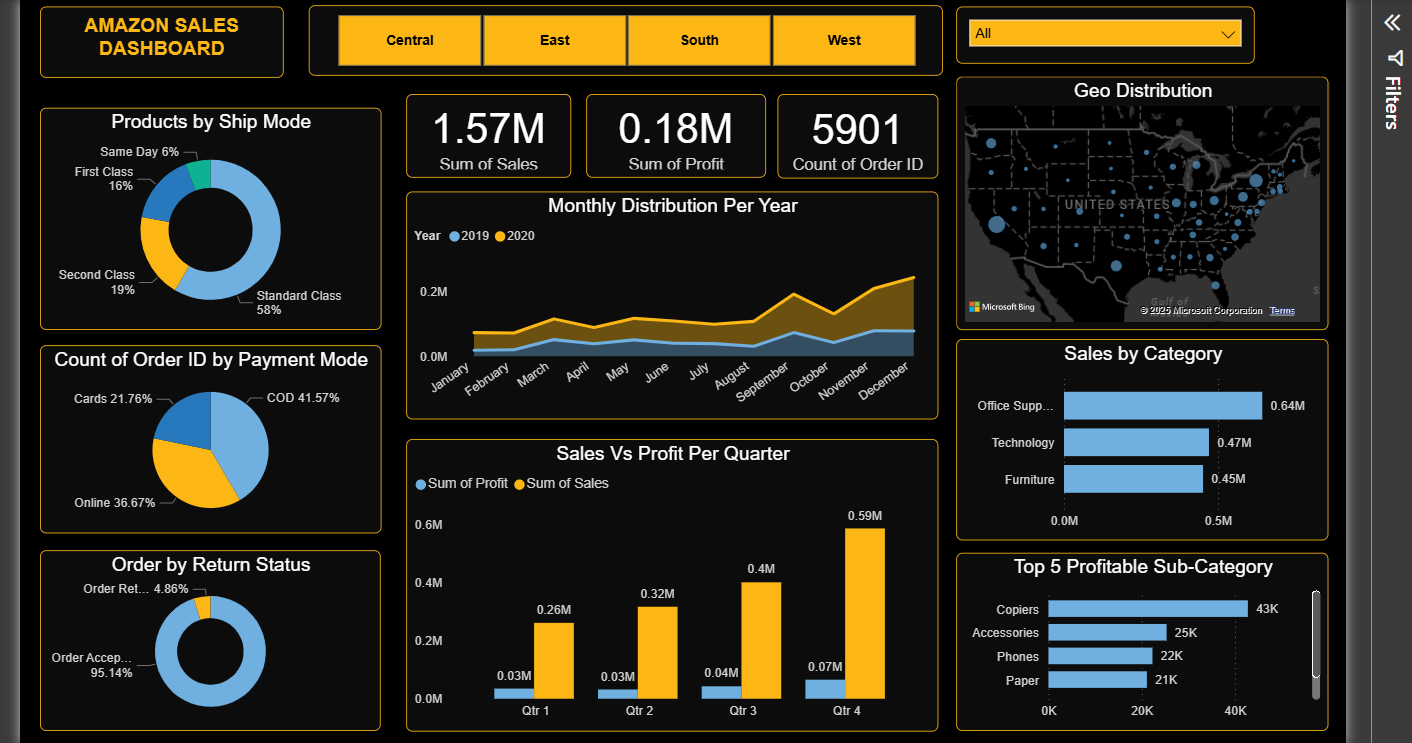

Layout of this report page (visuals, bound fields, positions):
{"tool":"powerbi","page":{"name":"Page 1","canvas":[1280,720],"ordinal":0},"visuals":[{"type":"clusteredBarChart","title":"Sales by Category","fields":{"Category":["Amazon Store Sales Data xlsx - Sheet1 (1).Category"],"Y":["Sum(Amazon Store Sales Data xlsx - Sheet1 (1).Sales)"]},"box":[903.5,327.7,359.5,194.1],"z":0},{"type":"clusteredBarChart","title":"Top 5 Profitable Sub-Category","fields":{"Category":["Amazon Store Sales Data xlsx - Sheet1 (1).Sub-Category"],"Y":["Sum(Amazon Store Sales Data xlsx - Sheet1 (1).Profit)"]},"box":[903.5,534.4,359.5,171.8],"z":1000},{"type":"donutChart","title":"Products by Ship Mode","fields":{"Category":["Amazon Store Sales Data xlsx - Sheet1 (1).Ship Mode"],"Y":["CountNonNull(Amazon Store Sales Data xlsx - Sheet1 (1).Product ID)"]},"box":[19.1,105,329.3,214.7],"z":2000},{"type":"pieChart","fields":{"Category":["Amazon Store Sales Data xlsx - Sheet1 (1).Payment Mode"],"Y":["CountNonNull(Amazon Store Sales Data xlsx - Sheet1 (1).Order ID)"]},"box":[19.1,334,329.3,181.3],"z":3000},{"type":"donutChart","title":"Order by Return Status","fields":{"Category":["Amazon Store Sales Data xlsx - Sheet1 (1).Return Status"],"Y":["CountNonNull(Amazon Store Sales Data xlsx - Sheet1 (1).Order ID)"]},"box":[18.9,532.2,328.9,174.4],"z":4000},{"type":"stackedAreaChart","title":"Monthly Distribution Per Year","fields":{"Category":["Amazon Store Sales Data xlsx - Sheet1 (1).Order Date.Variation.Date Hierarchy.Month"],"Y":["Sum(Amazon Store Sales Data xlsx - Sheet1 (1).Sales)"],"Series":["Amazon Store Sales Data xlsx - Sheet1 (1).Order Date.Variation.Date Hierarchy.Year"]},"box":[373.3,185.6,513.3,220],"z":5000},{"type":"clusteredColumnChart","title":"Sales Vs Profit Per Quarter","fields":{"Category":["Amazon Store Sales Data xlsx - Sheet1 (1).Order Date.Variation.Date Hierarchy.Quarter"],"Y":["Sum(Amazon Store Sales Data xlsx - Sheet1 (1).Profit)","Sum(Amazon Store Sales Data xlsx - Sheet1 (1).Sales)"]},"box":[373.3,424.4,513.3,282.2],"z":6000},{"type":"map","title":"Geo Distribution","fields":{"Category":["Amazon Store Sales Data xlsx - Sheet1 (1).State"],"Size":["Sum(Amazon Store Sales Data xlsx - Sheet1 (1).Sales)"]},"box":[903.5,74.8,359.5,245],"z":7000},{"type":"slicer","fields":{"Values":["Amazon Store Sales Data xlsx - Sheet1 (1).Region"]},"box":[278.4,6.4,612.4,68.4],"z":8000},{"type":"slicer","fields":{"Values":["Amazon Store Sales Data xlsx - Sheet1 (1).State"]},"box":[903.3,6.7,287.8,55.6],"z":9000},{"type":"textbox","box":[18.9,6.7,235.6,68.9],"z":10000},{"type":"card","fields":{"Values":["Sum(Amazon Store Sales Data xlsx - Sheet1 (1).Sales)"]},"box":[373.3,91.1,158.9,81.1],"z":11000},{"type":"card","fields":{"Values":["Sum(Amazon Store Sales Data xlsx - Sheet1 (1).Profit)"]},"box":[546.7,92.2,173.3,81.1],"z":12000},{"type":"card","fields":{"Values":["CountNonNull(Amazon Store Sales Data xlsx - Sheet1 (1).Order ID)"]},"box":[731.7,91.7,155,81.7],"z":13000}]}

Visuals, with their boxes on the page's 1280x720 design canvas (x1, y1, x2, y2). These are canvas units, not pixel positions in the 1412x743 screenshot, which may show the page scaled, cropped or inside an application window:
"Sales by Category" clusteredBarChart: (904,328,1263,522)
"Top 5 Profitable Sub-Category" clusteredBarChart: (904,534,1263,706)
"Products by Ship Mode" donutChart: (19,105,348,320)
pieChart - Amazon Store Sales Data xlsx - Sheet1 (1).Payment Mode x CountNonNull(Amazon Store Sales Data xlsx - Sheet1 (1).Order ID): (19,334,348,515)
"Order by Return Status" donutChart: (19,532,348,707)
"Monthly Distribution Per Year" stackedAreaChart: (373,186,887,406)
"Sales Vs Profit Per Quarter" clusteredColumnChart: (373,424,887,707)
"Geo Distribution" map: (904,75,1263,320)
slicer - Amazon Store Sales Data xlsx - Sheet1 (1).Region: (278,6,891,75)
slicer - Amazon Store Sales Data xlsx - Sheet1 (1).State: (903,7,1191,62)
textbox: (19,7,254,76)
card - Sum(Amazon Store Sales Data xlsx - Sheet1 (1).Sales): (373,91,532,172)
card - Sum(Amazon Store Sales Data xlsx - Sheet1 (1).Profit): (547,92,720,173)
card - CountNonNull(Amazon Store Sales Data xlsx - Sheet1 (1).Order ID): (732,92,887,173)
